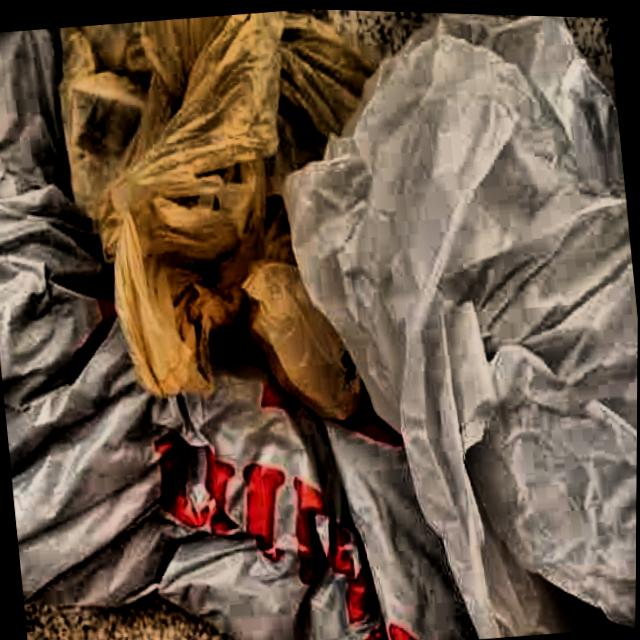Plastic: (264, 20, 640, 640), (36, 1, 404, 486)
